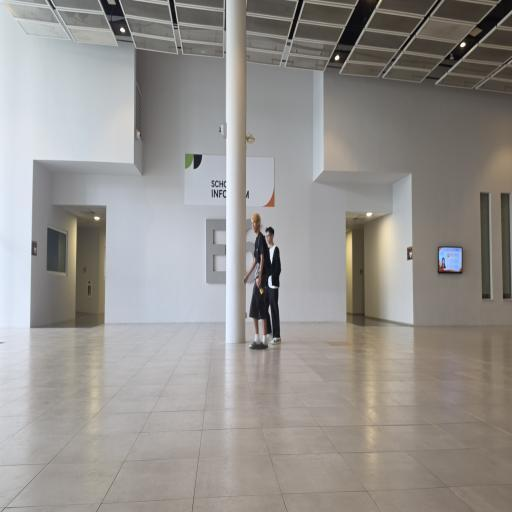person_left: (248, 208, 270, 351), (265, 218, 283, 346)
